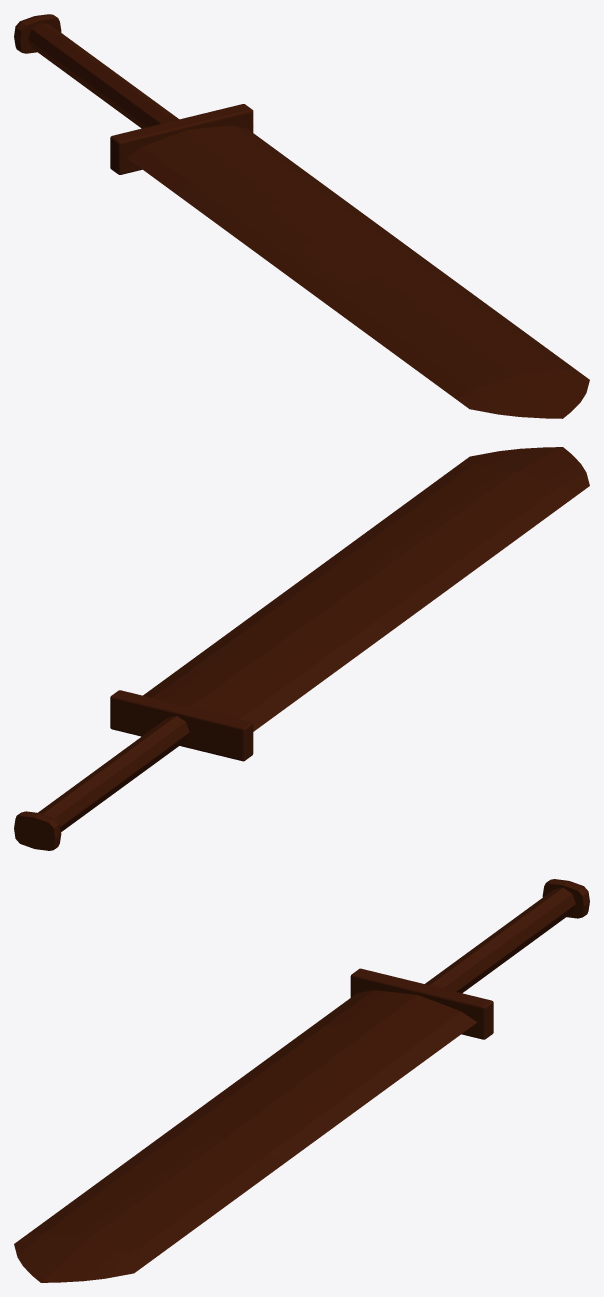
The model's file is Espada de madeira.fbx.
3 views of the same model, one above another, from view 1: azimuth 30°, elevation 25°; view 2: azimuth 150°, elevation 25°; view 3: azimuth 330°, elevation 25° (orthographic).
Visible parts, largest first — view 1: Espada de madeira; view 2: Espada de madeira; view 3: Espada de madeira.
Part boxes in pixels (bbox=[...]): Espada de madeira: bbox=[14, 14, 589, 418]; Espada de madeira: bbox=[14, 447, 589, 850]; Espada de madeira: bbox=[14, 879, 589, 1282].
Size of the model in its own units: 0.1471 by 0.0352 by 0.9954.
